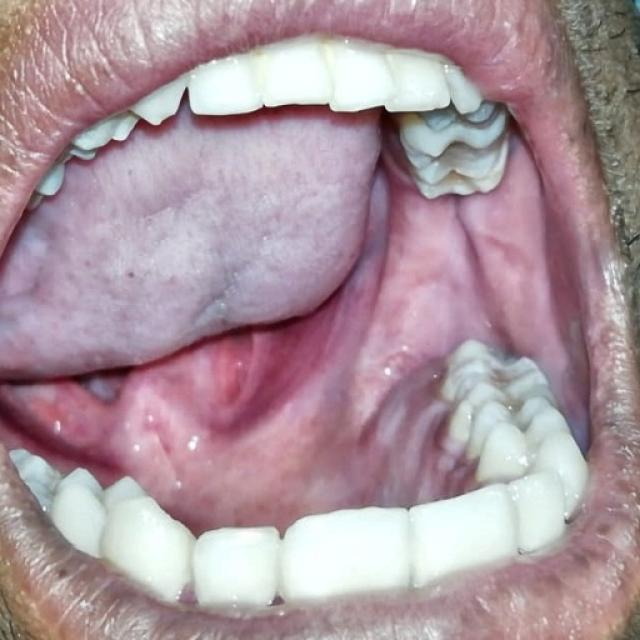processing_area: (6, 105, 587, 523)
